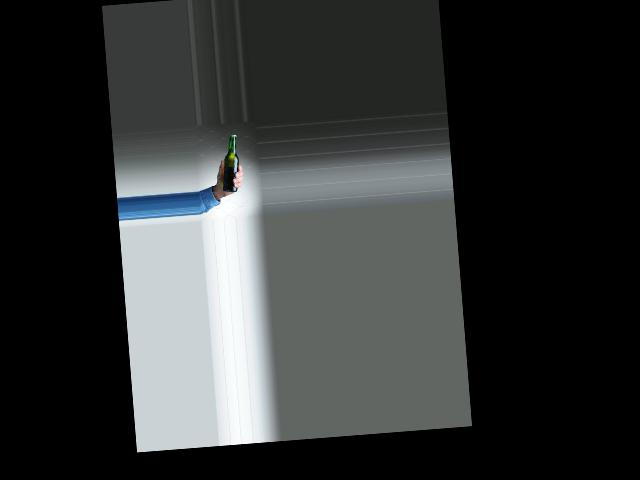beer: (218, 134, 241, 192)
